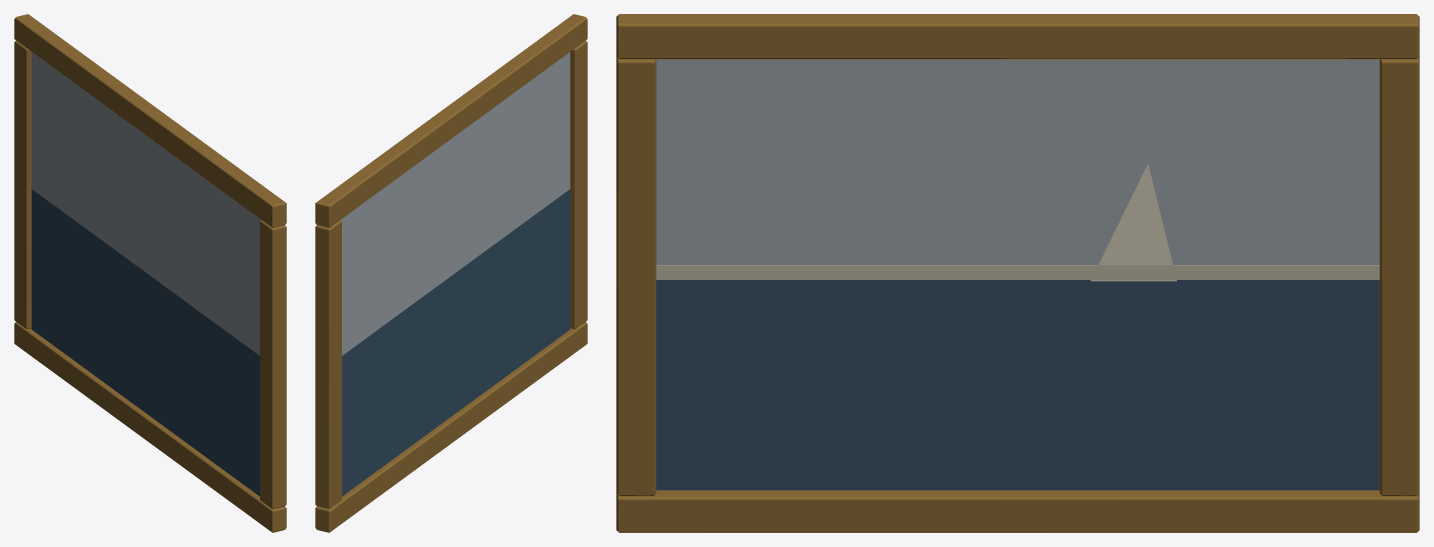
The model's file is painting_b.glb.
3 renders of one model, left to right at view 1: azimuth 30°, elevation 25°; view 2: azimuth 150°, elevation 25°; view 3: azimuth 270°, elevation 25°, orthographic. The views are drawn at different scales.
Parts seen in each view (by area): view 1: meer, himmel, rahmen_o, rahmen_r, rahmen_u, rahmen_l; view 2: meer, himmel, rahmen_o, rahmen_l, rahmen_u, rahmen_r; view 3: meer, himmel, rahmen_o, rahmen_u, rahmen_l, rahmen_r, horizont, segel.
Part boxes in pixels (x1=…): meer: x1=31, y1=189, x2=259, y2=496; himmel: x1=31, y1=52, x2=261, y2=355; rahmen_o: x1=14, y1=14, x2=286, y2=227; rahmen_r: x1=260, y1=220, x2=286, y2=509; rahmen_u: x1=14, y1=322, x2=286, y2=532; rahmen_l: x1=14, y1=40, x2=31, y2=329; meer: x1=342, y1=189, x2=570, y2=496; himmel: x1=340, y1=52, x2=570, y2=355; rahmen_o: x1=315, y1=14, x2=587, y2=227; rahmen_l: x1=315, y1=220, x2=341, y2=509; rahmen_u: x1=315, y1=322, x2=587, y2=532; rahmen_r: x1=570, y1=40, x2=587, y2=329; meer: x1=656, y1=280, x2=1379, y2=490; himmel: x1=656, y1=59, x2=1379, y2=264; rahmen_o: x1=616, y1=14, x2=1419, y2=59; rahmen_u: x1=616, y1=490, x2=1419, y2=532; rahmen_l: x1=1379, y1=57, x2=1419, y2=496; rahmen_r: x1=616, y1=57, x2=656, y2=496; horizont: x1=656, y1=265, x2=1379, y2=279; segel: x1=1090, y1=163, x2=1176, y2=281.
Bounding box in the file's own units: 0.035 × 0.7 × 1.
